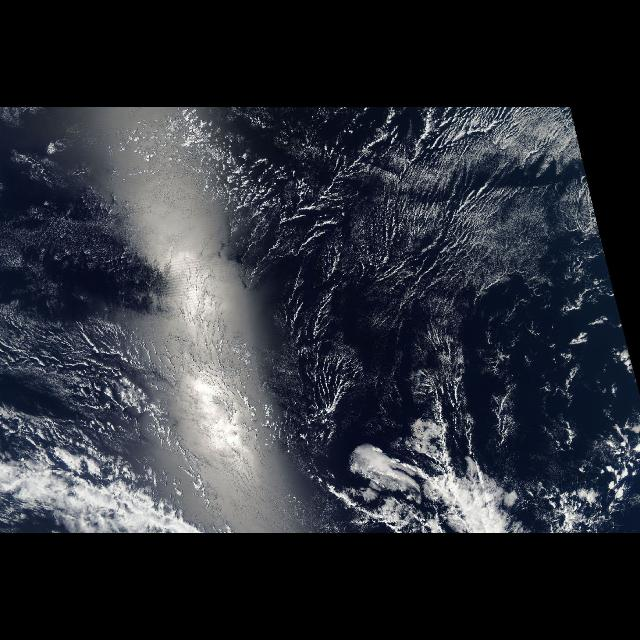Sugar: (14, 110, 638, 452)
